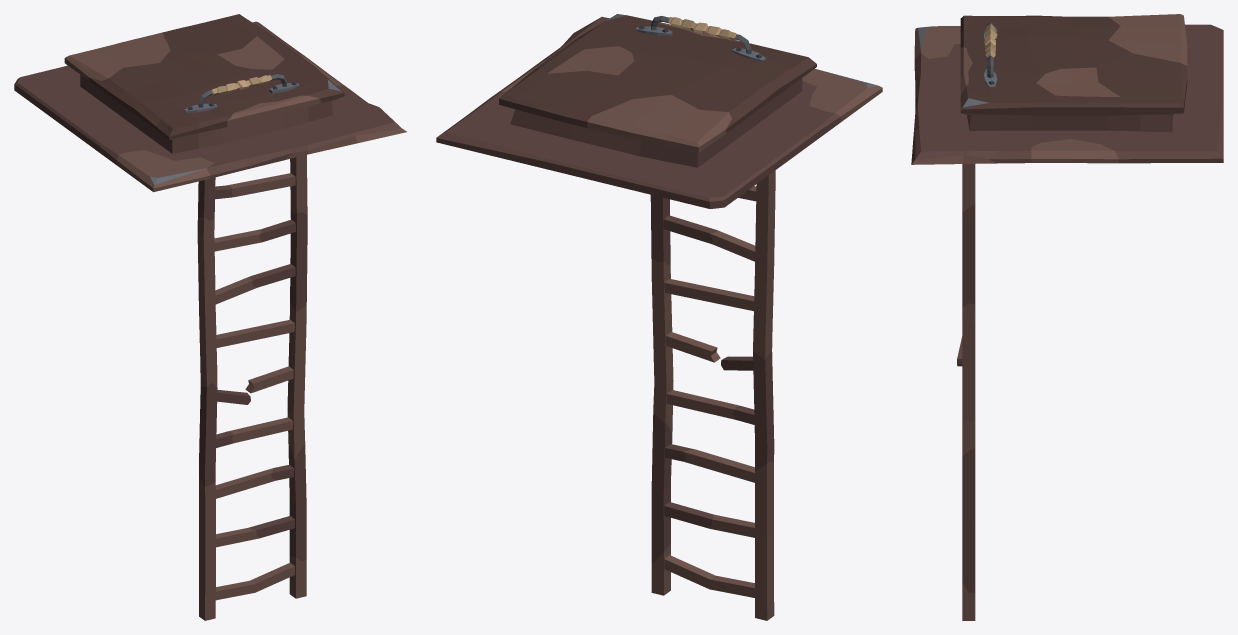
The model's file is SM_Hatchway.gltf.
3 renders of one model, left to right at view 1: azimuth 30°, elevation 25°; view 2: azimuth 150°, elevation 25°; view 3: azimuth 270°, elevation 25°, orthographic. The views are drawn at different scales.
Parts seen in each view (by area): view 1: SM_Hatchway_Ladder, SM_Hatchway_Hood, SM_Hatchway; view 2: SM_Hatchway_Hood, SM_Hatchway_Ladder, SM_Hatchway; view 3: SM_Hatchway, SM_Hatchway_Hood, SM_Hatchway_Ladder.
Part boxes in pixels (x1,y1,x2,y2): SM_Hatchway_Ladder: (197,155,307,620); SM_Hatchway_Hood: (64,14,344,139); SM_Hatchway: (14,21,406,192); SM_Hatchway_Hood: (499,14,816,153); SM_Hatchway_Ladder: (650,170,775,620); SM_Hatchway: (436,16,882,208); SM_Hatchway: (911,24,1223,164); SM_Hatchway_Hood: (960,14,1187,115); SM_Hatchway_Ladder: (957,164,975,620).
Bounding box in the file's own units: 1.71 × 3.37 × 1.71.
1 material, 1 textured.
